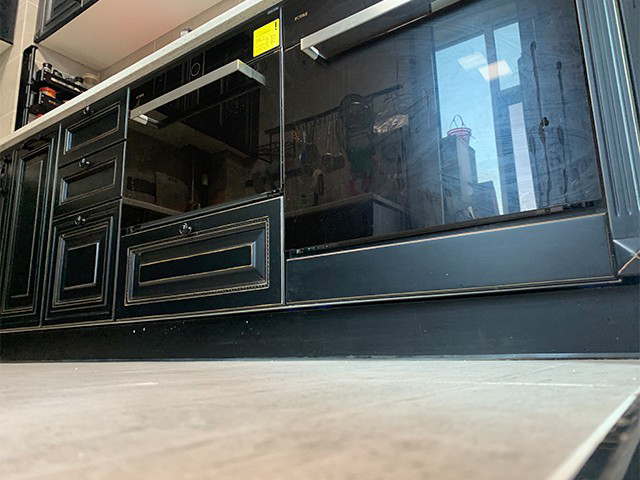cabinet: (285, 10, 640, 353), (1, 8, 277, 362)
